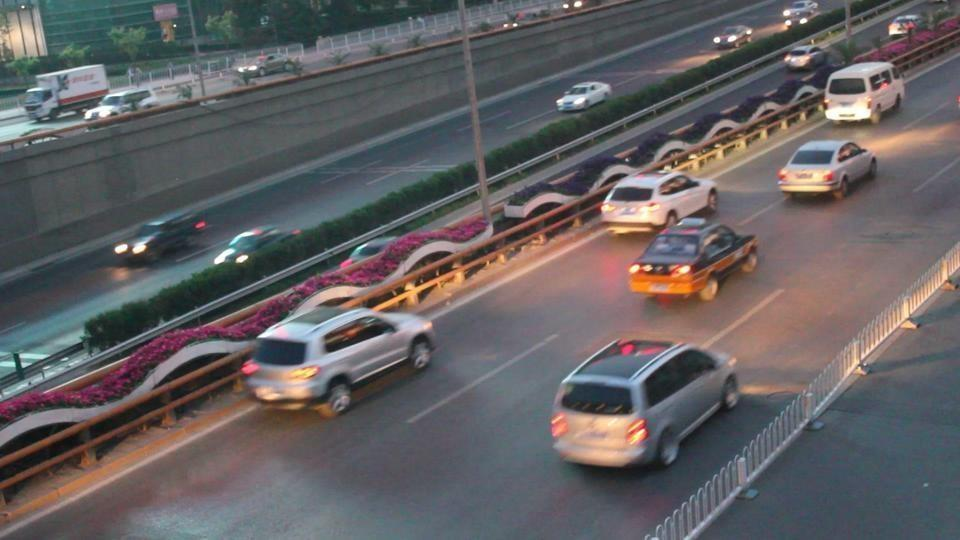car: (548, 336, 742, 471), (242, 306, 436, 418), (627, 215, 760, 304), (502, 158, 641, 224), (600, 169, 720, 232), (776, 139, 878, 201), (821, 60, 906, 125), (112, 213, 210, 266), (212, 224, 299, 267), (82, 88, 153, 124), (556, 81, 612, 113), (238, 53, 302, 79), (711, 25, 754, 50)
